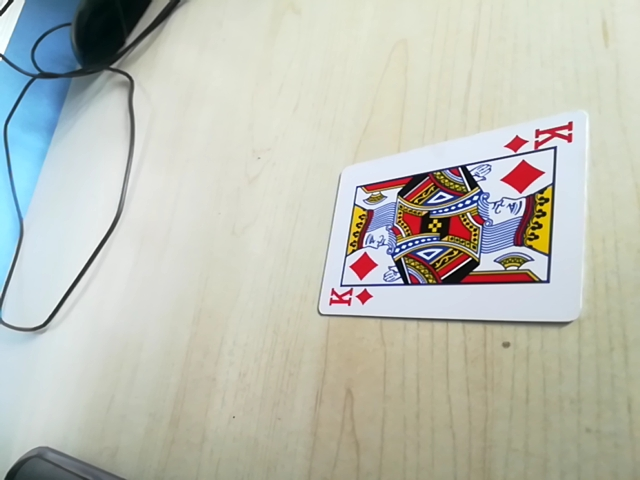fk k: (505, 121, 576, 156), (323, 285, 378, 314)
